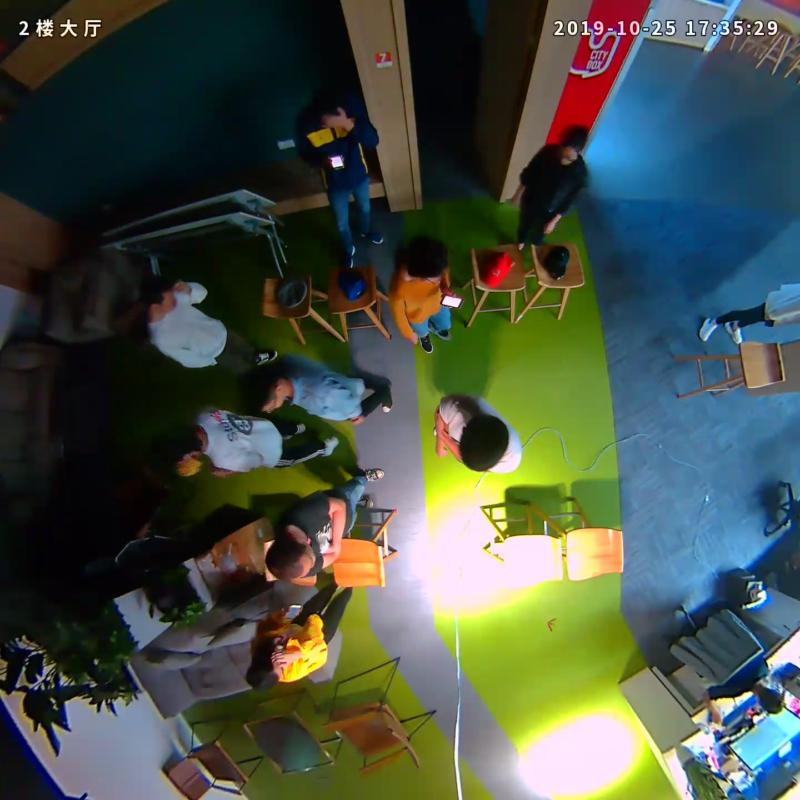head: (460, 415, 510, 473), (239, 366, 290, 416), (265, 536, 316, 582), (155, 423, 205, 466), (404, 237, 447, 282), (244, 644, 283, 689), (140, 274, 181, 314), (307, 90, 344, 128), (557, 125, 589, 167)
